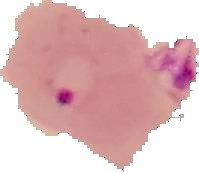parasitized: (41, 41, 107, 111)
